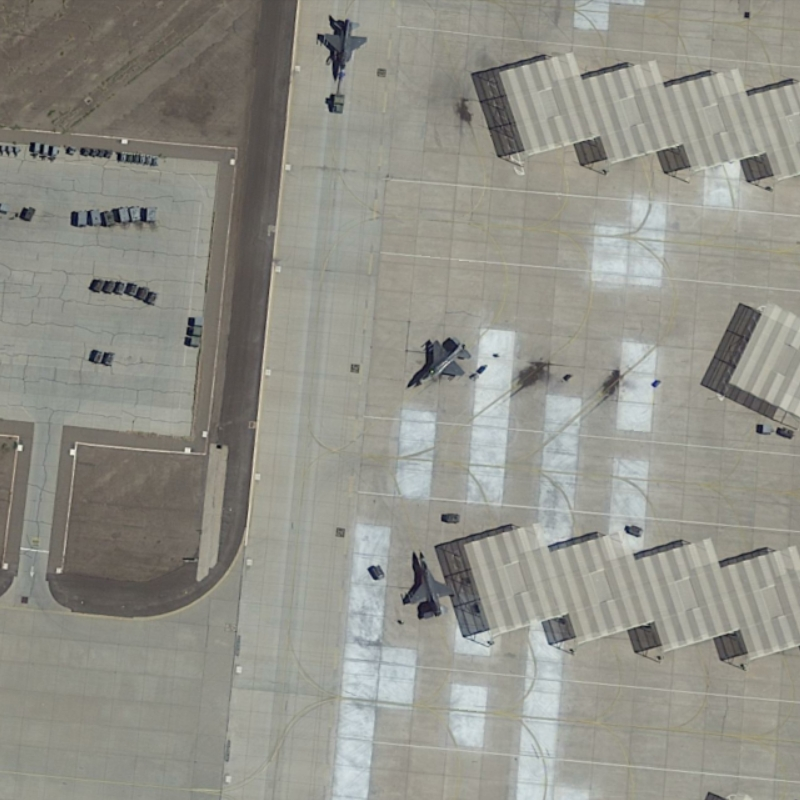A5: (399, 544, 460, 621), (407, 333, 473, 391), (315, 15, 370, 84)
